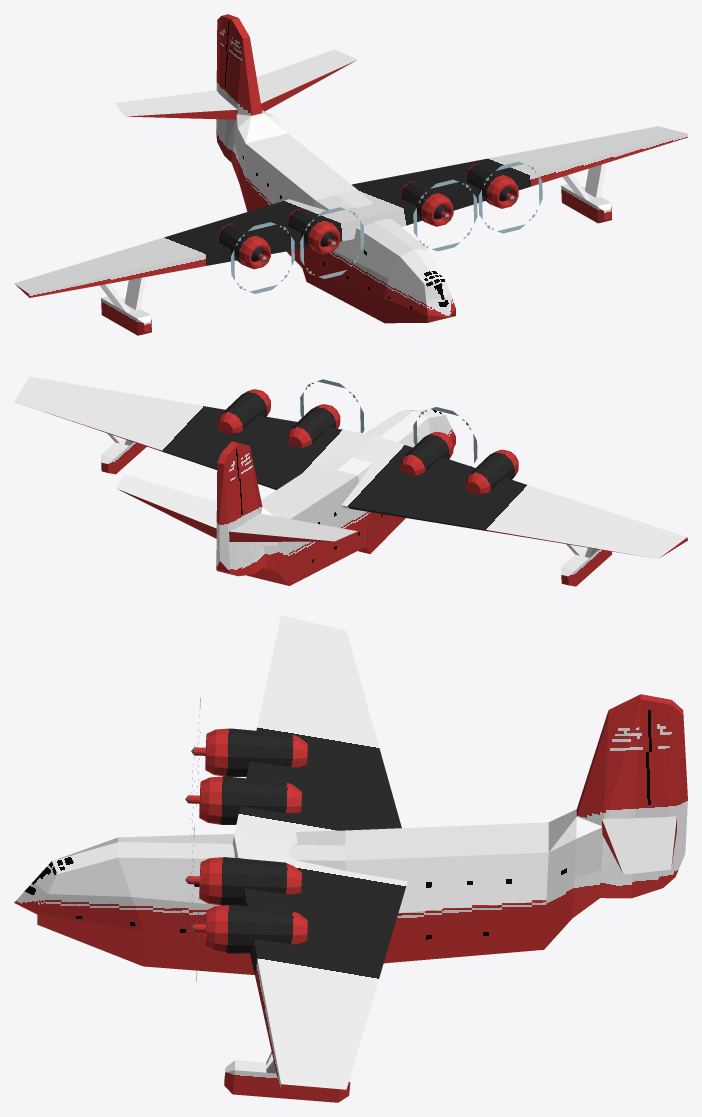
The model's file is martin.gltf.
The picture shows the model from 3 angles, top to bottom: view 1: azimuth 30°, elevation 25°; view 2: azimuth 150°, elevation 25°; view 3: azimuth 270°, elevation 25°; orthographic projection. The views are drawn at different scales.
Parts seen in each view (by area): view 1: fuselage, wing, turbine (×4), back wing, cylinder (×4), right boat, left boat; view 2: wing, fuselage, turbine (×4), back wing, right boat, left boat; view 3: fuselage, wing, turbine (×4), back wing, left boat.
Boxes of the visible parts, left/top/right/bottom form: fuselage: left=216, top=14, right=455, bottom=323; wing: left=14, top=126, right=687, bottom=297; turbine (×4): left=218, top=163, right=518, bottom=269; back wing: left=115, top=49, right=357, bottom=119; cylinder (×4): left=231, top=161, right=542, bottom=293; right boat: left=99, top=277, right=151, bottom=335; left boat: left=561, top=163, right=612, bottom=223; wing: left=14, top=376, right=687, bottom=558; fuselage: left=216, top=408, right=455, bottom=585; turbine (×4): left=218, top=389, right=518, bottom=494; back wing: left=115, top=474, right=357, bottom=541; right boat: left=561, top=544, right=612, bottom=586; left boat: left=101, top=433, right=146, bottom=474; fuselage: left=14, top=694, right=687, bottom=974; wing: left=232, top=615, right=407, bottom=1089; turbine (×4): left=185, top=728, right=307, bottom=953; back wing: left=602, top=816, right=676, bottom=874; left boat: left=224, top=1051, right=350, bottom=1102.
Size of the model in its own units: 11.62 by 3.03 by 7.06.
6 materials, 6 textured.
